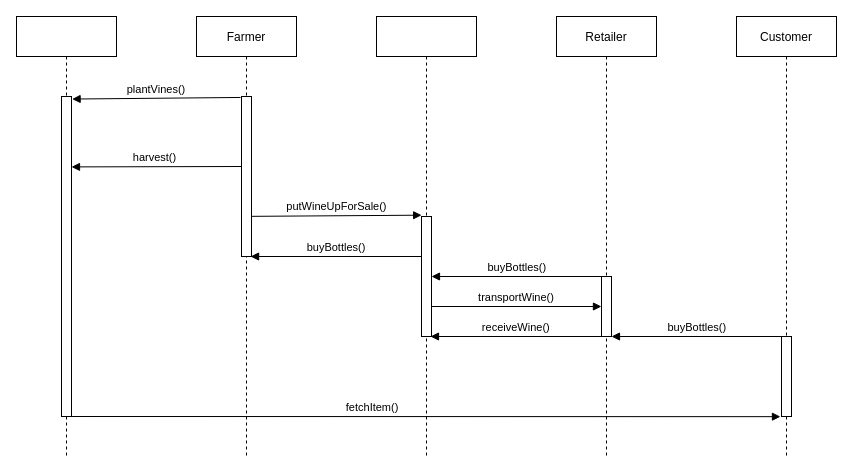
Image size: 853x473. Some labels were removed from this diagram. Each missing label, with the box of its shape:
Distributor: (376, 16, 476, 456)
Wine: (16, 16, 116, 456)
